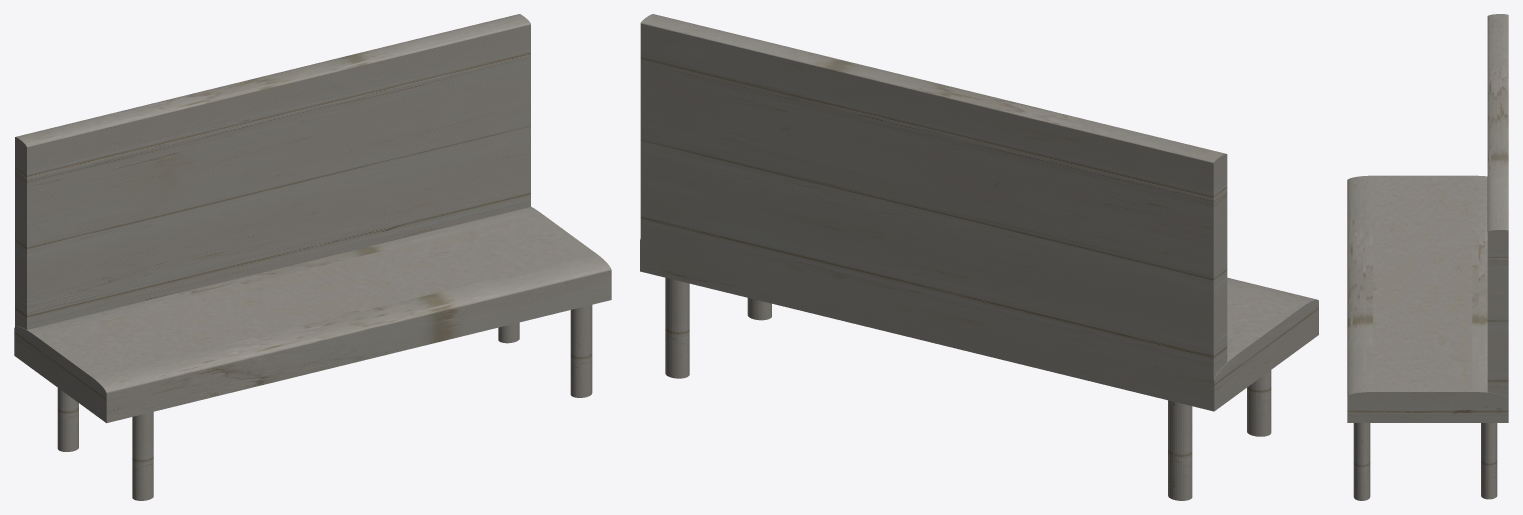
Rendered from banca.fbx.
3 renders of one model, left to right at view 1: azimuth 30°, elevation 25°; view 2: azimuth 150°, elevation 25°; view 3: azimuth 270°, elevation 25°, orthographic. The views are drawn at different scales.
Parts seen in each view (by area): view 1: Cubo; view 2: Cubo; view 3: Cubo.
Boxes of the visible parts, x1,y1,x2,y2 form: Cubo: (14,14,611,500); Cubo: (640,14,1318,500); Cubo: (1347,14,1508,500).
Size of the model in its own units: 5 by 2.97 by 1.58.
Materials: 1 (1 with a texture image).
